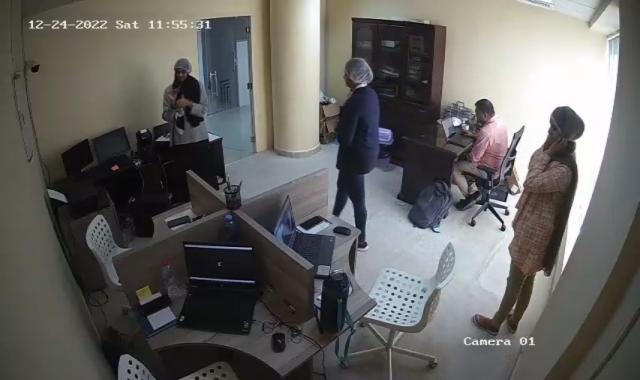hairnet: (340, 53, 375, 91), (548, 107, 586, 142), (172, 56, 194, 82)
no_hairnet: (472, 98, 495, 126)
